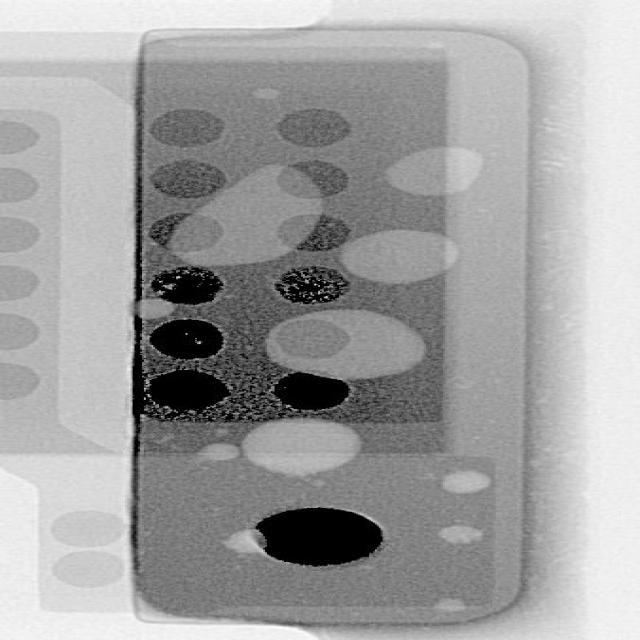component: (134, 30, 524, 626)
void: (165, 165, 322, 266), (265, 310, 424, 380), (240, 419, 360, 477), (339, 229, 458, 284), (384, 146, 483, 195), (441, 471, 490, 495), (222, 530, 265, 557), (437, 526, 483, 545), (136, 298, 174, 319), (195, 444, 239, 461), (434, 600, 466, 613), (252, 88, 278, 98)
